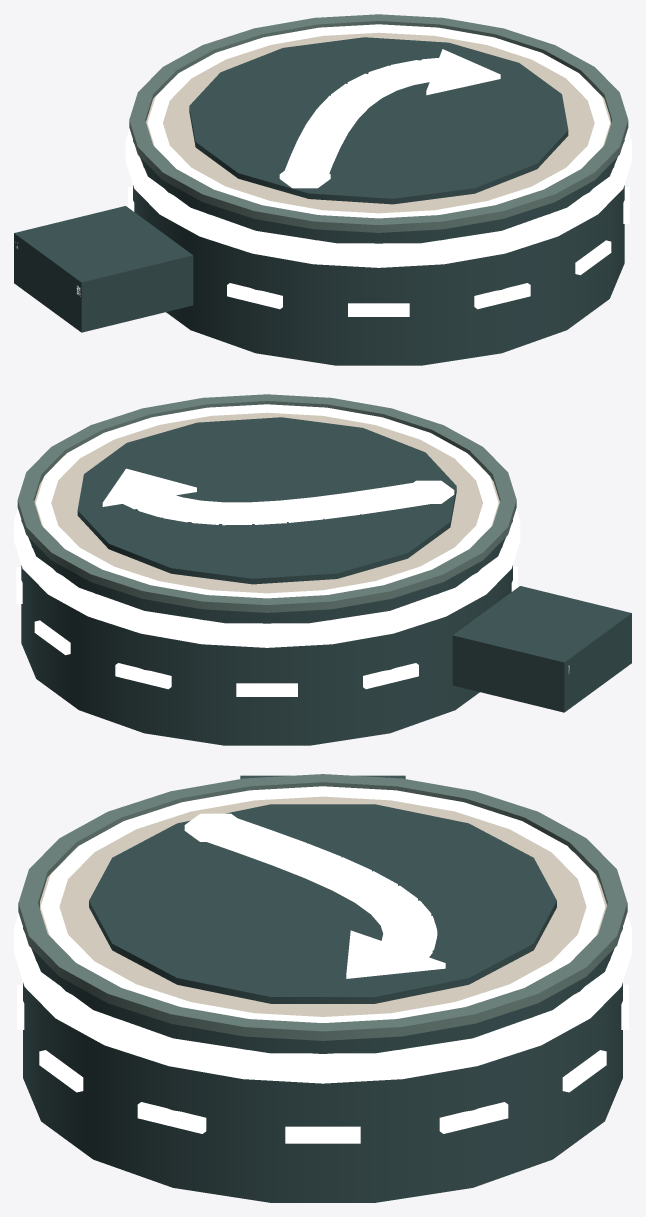
The model's file is Relay_Button_Launcher_v3_lab.glb.
The picture shows the model from 3 angles, top to bottom: view 1: azimuth 30°, elevation 25°; view 2: azimuth 150°, elevation 25°; view 3: azimuth 270°, elevation 25°; orthographic projection. The views are drawn at different scales.
Parts seen in each view (by area): view 1: Relay_Button_Launcher_v3, Glyph, Strut; view 2: Relay_Button_Launcher_v3, Glyph, Strut; view 3: Relay_Button_Launcher_v3, Glyph.
Boxes of the visible parts, x1,y1,x2,y2 form: Relay_Button_Launcher_v3: [125, 14, 631, 365]; Glyph: [189, 37, 568, 204]; Strut: [14, 206, 193, 332]; Relay_Button_Launcher_v3: [14, 394, 520, 745]; Glyph: [77, 417, 456, 584]; Strut: [452, 586, 631, 712]; Relay_Button_Launcher_v3: [14, 774, 631, 1202]; Glyph: [89, 804, 556, 1003].
Bounding box in the file's own units: 5.17 × 2.05 × 4.12.
